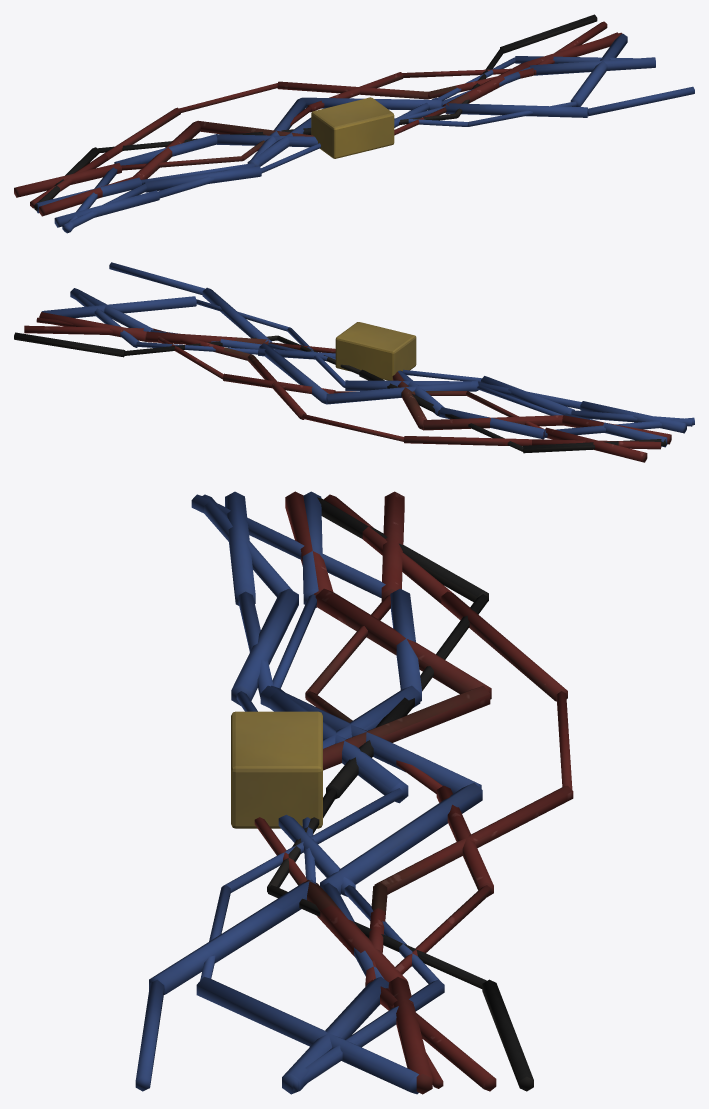
The model's file is Y08_floor_cable_bundles_v3.glb.
3 views of the same model, one above another, from view 1: azimuth 30°, elevation 25°; view 2: azimuth 150°, elevation 25°; view 3: azimuth 270°, elevation 25° (orthographic). The views are drawn at different scales.
Visible parts, largest first — view 1: Y08_floor_cable_bundles_v3; view 2: Y08_floor_cable_bundles_v3; view 3: Y08_floor_cable_bundles_v3.
Part boxes in pixels (x1,y1,x2,y2): Y08_floor_cable_bundles_v3: (14, 14, 694, 233); Y08_floor_cable_bundles_v3: (14, 262, 694, 462); Y08_floor_cable_bundles_v3: (135, 491, 573, 1094).
Size of the model in its own units: 3 by 0.1537 by 0.9447.
Materials: 4 (4 with a texture image).
